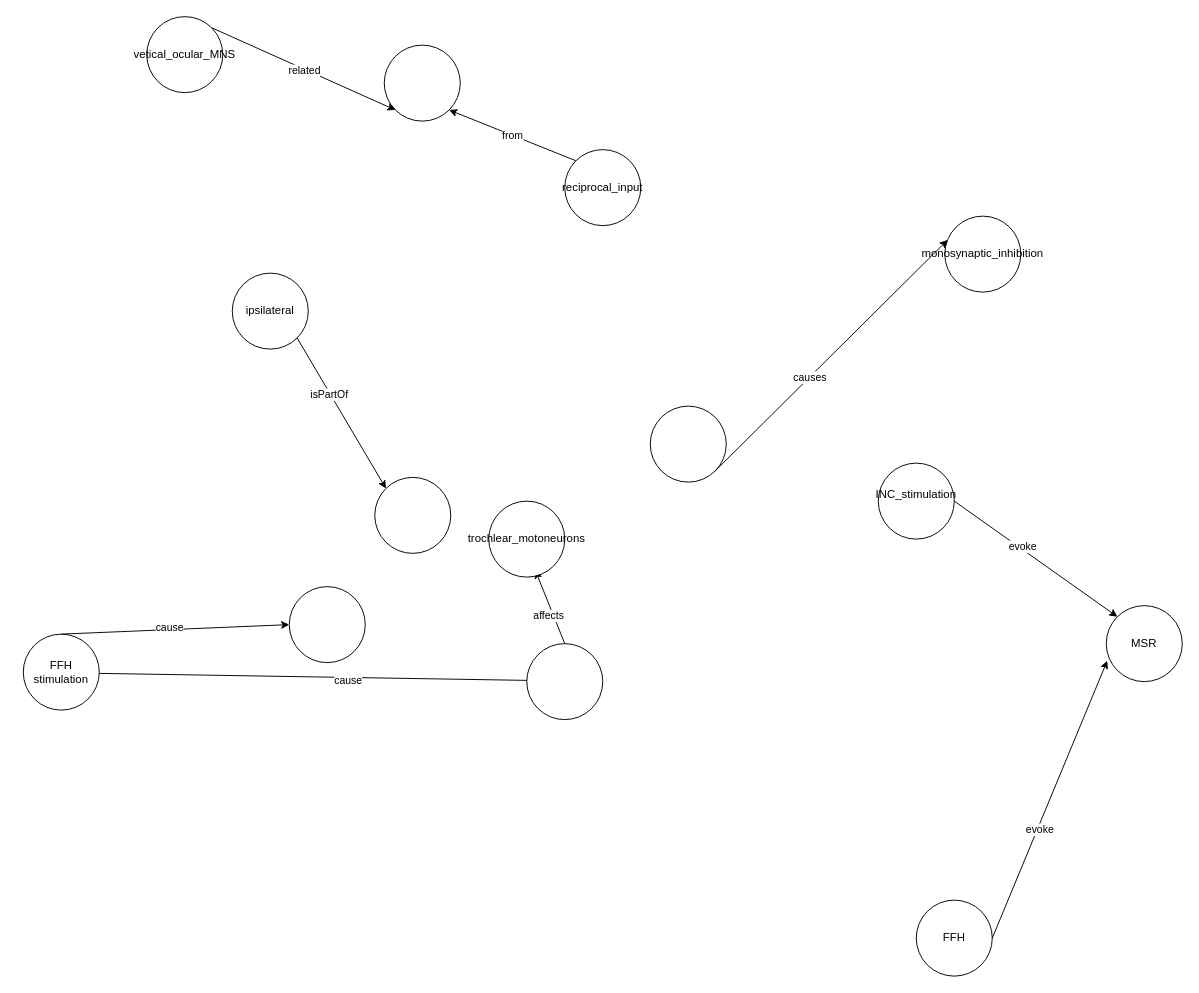
This 1199x993 diagram has some shape labels left out. The box of each missing label's shape, as (x1, y1, x2, y2) in pixels:
excitation: (288, 586, 365, 663)
INC_evoked: (649, 405, 726, 482)
inhibition: (526, 643, 603, 720)
SC: (374, 476, 451, 553)
SCs: (383, 44, 460, 121)
